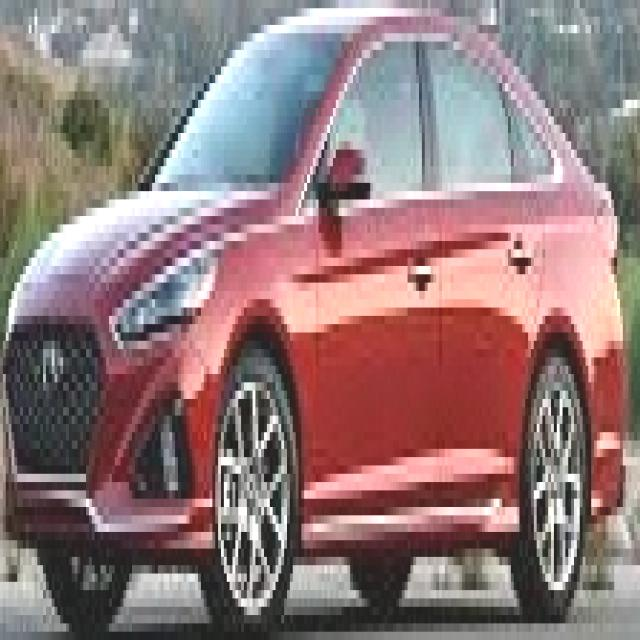maroon: (1, 13, 622, 618)
